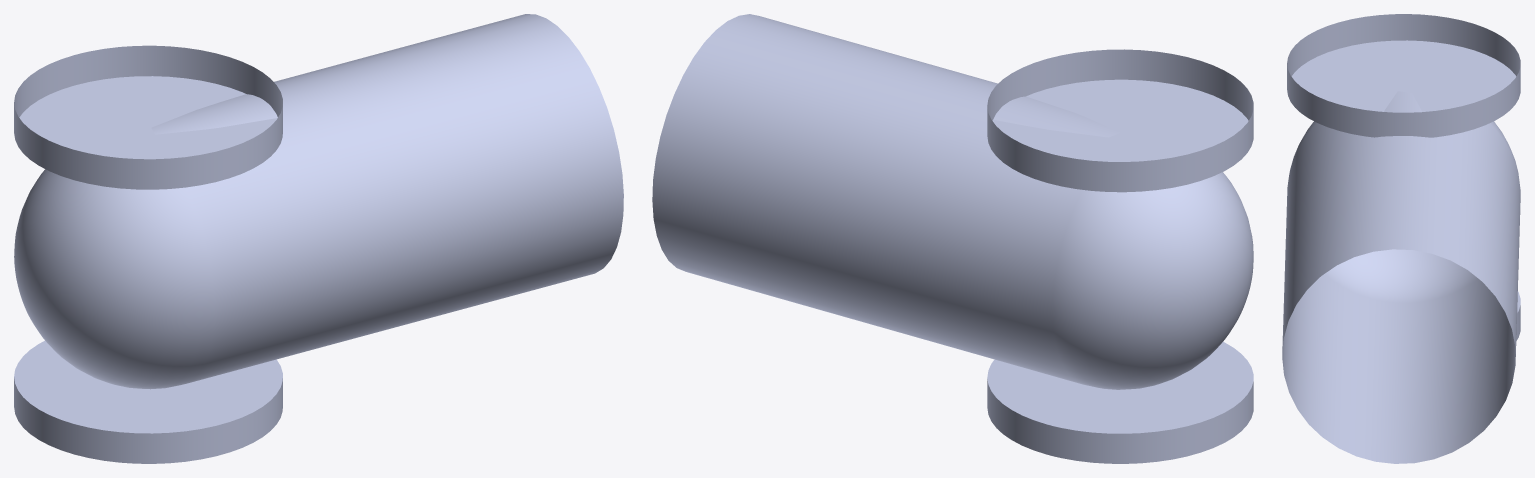
File: body_10.obj
3 views of the same model, side by side, from view 1: azimuth 30°, elevation 25°; view 2: azimuth 150°, elevation 25°; view 3: azimuth 270°, elevation 25° (orthographic). The views are drawn at different scales.
Parts seen in each view (by area): view 1: 3DGeom-6; view 2: 3DGeom-6; view 3: 3DGeom-6.
Boxes of the visible parts, <box> form: 3DGeom-6: <box>14,14,623,463</box>; 3DGeom-6: <box>652,14,1253,463</box>; 3DGeom-6: <box>1282,14,1520,463</box>.
Size of the model in its own units: 0.0452 by 0.025 by 0.0204.
